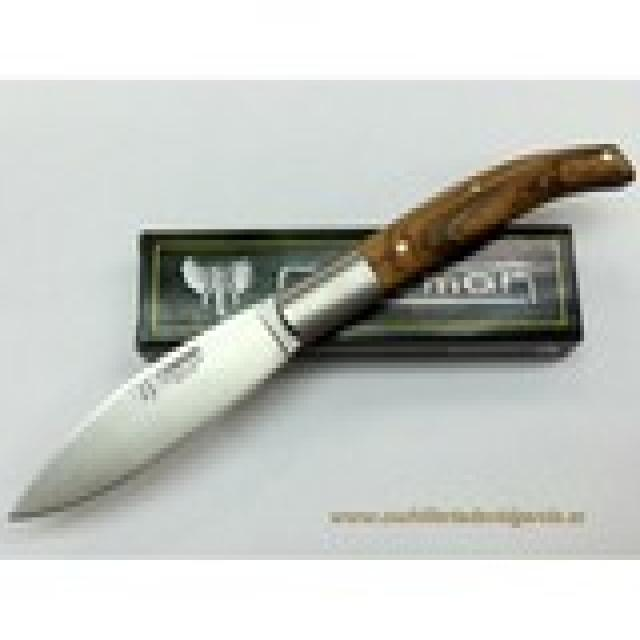Knife: (2, 138, 635, 534)
